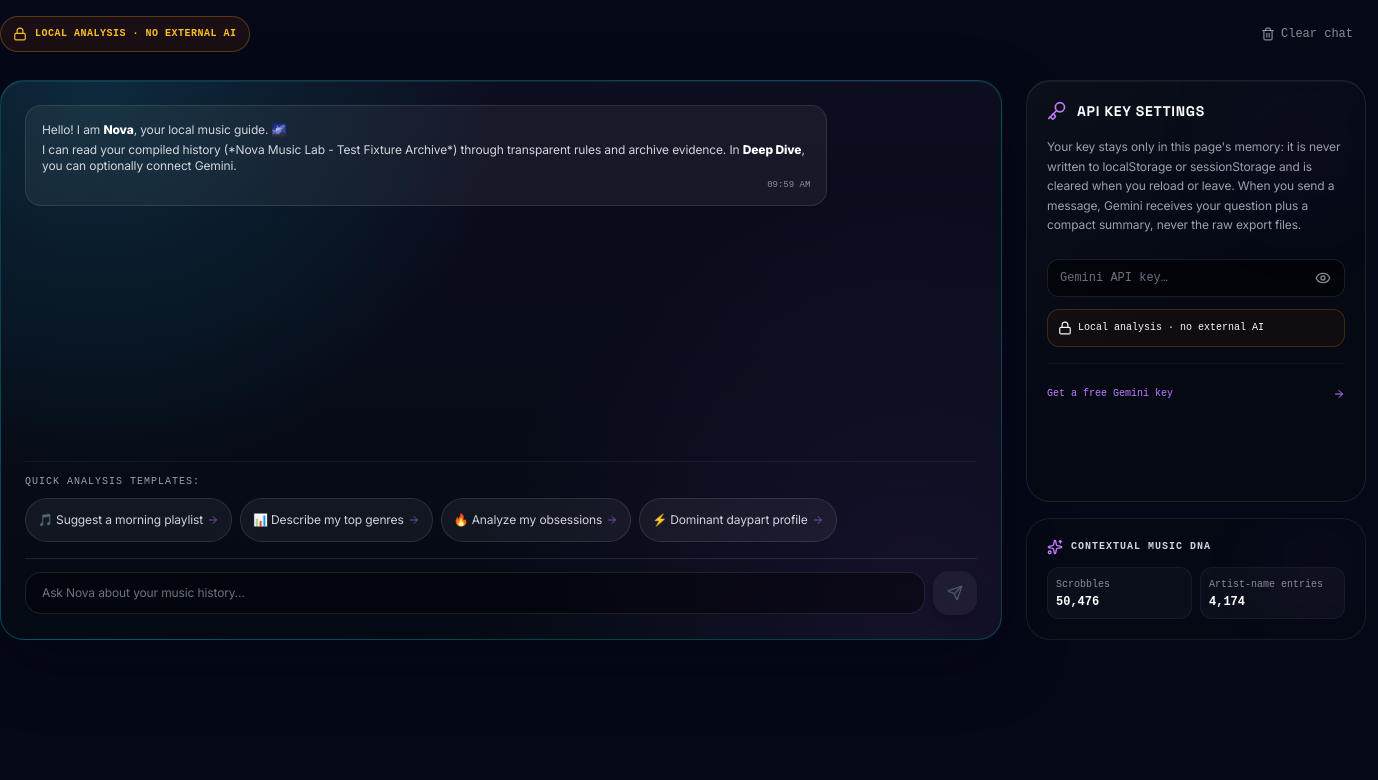
Test: AIAssistant accessibility › keeps the Gemini key only in page memory and supports clear
In the password field labelled "Gemini API key": (1196, 278) [1047, 258, 1345, 296], type "test-session-key"
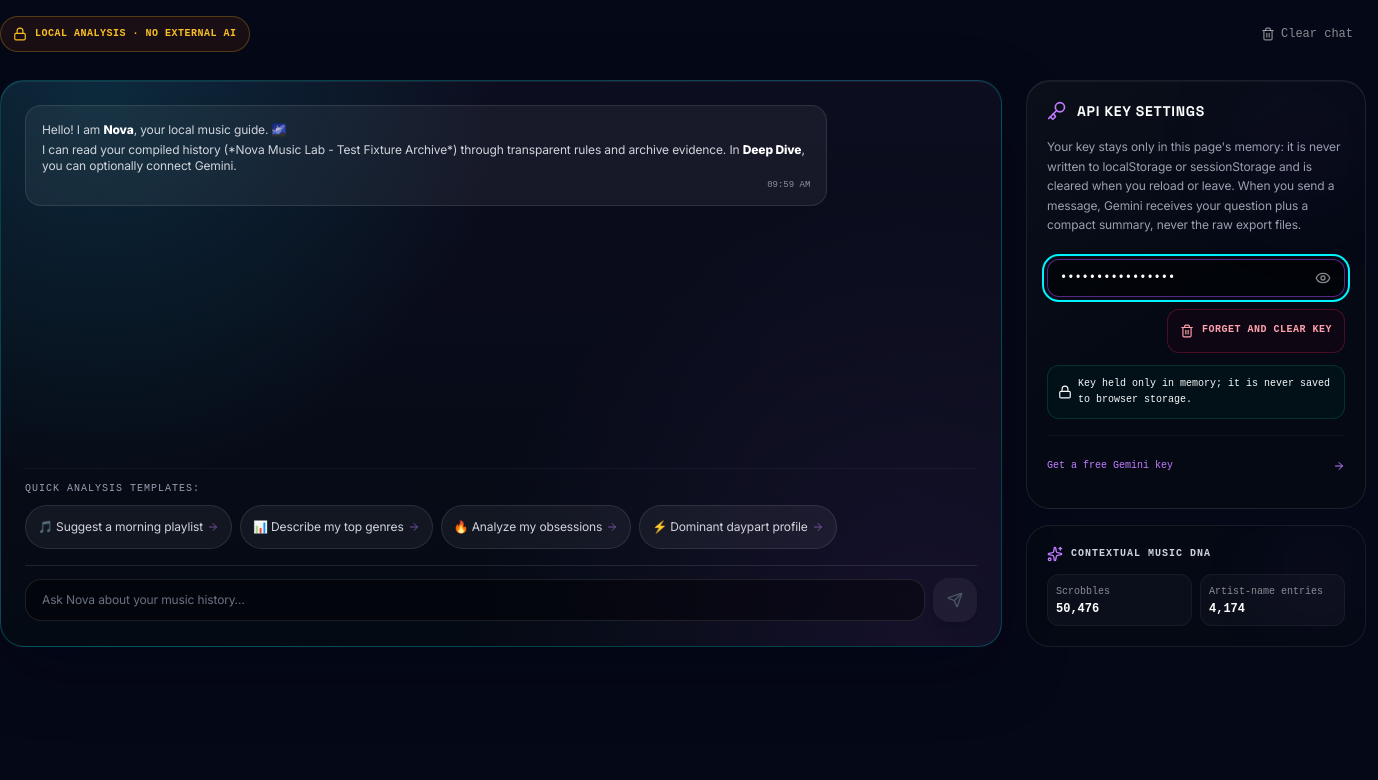
expect the text "Key held only in memory; it is never saved to browser storage." is shown: met, box [1078, 376, 1334, 408]
Click the button "Forget and clear key": (1256, 330) [1167, 308, 1345, 352]
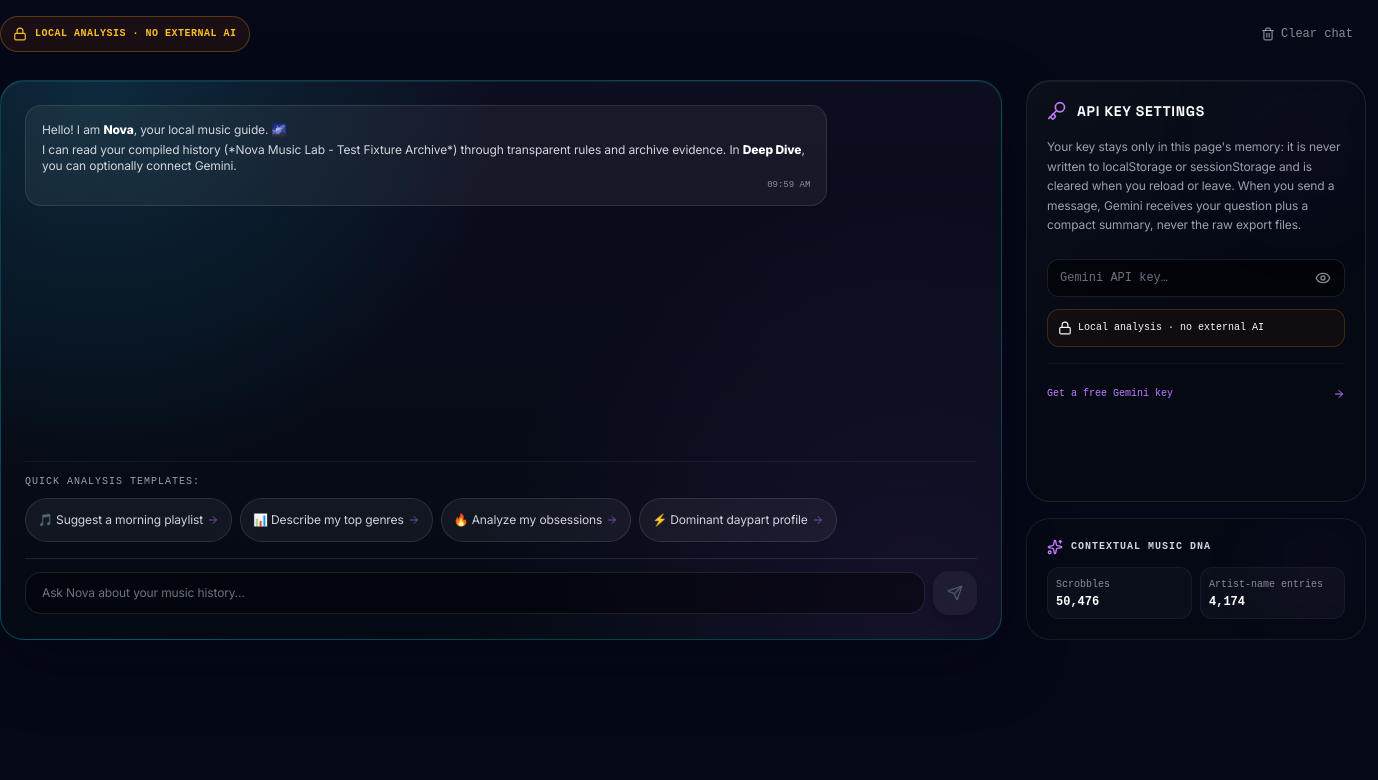
expect the password field labelled "Gemini API key" is empty: met, box [1047, 258, 1345, 296]
